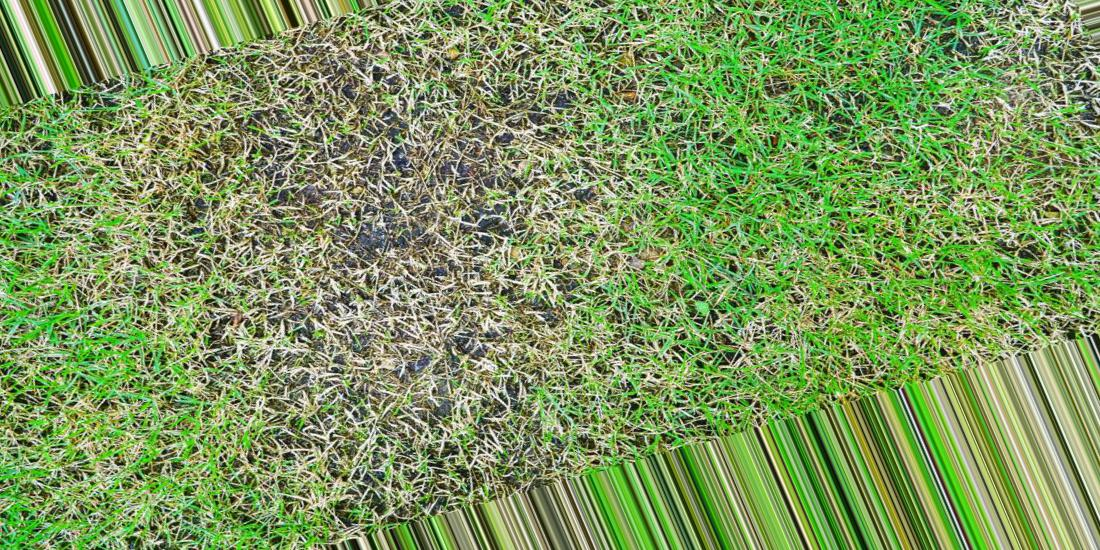patch: (294, 49, 507, 466)
